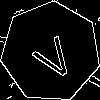V: (26, 27, 79, 84)
